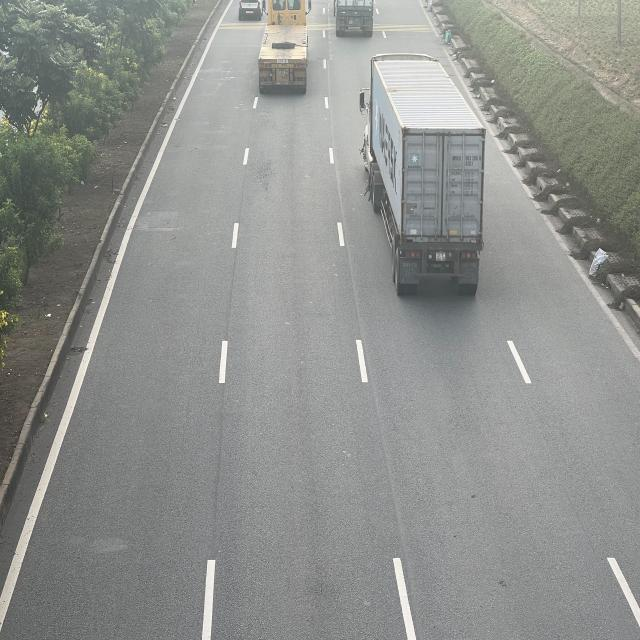container: (357, 52, 486, 298), (259, 2, 311, 96)
